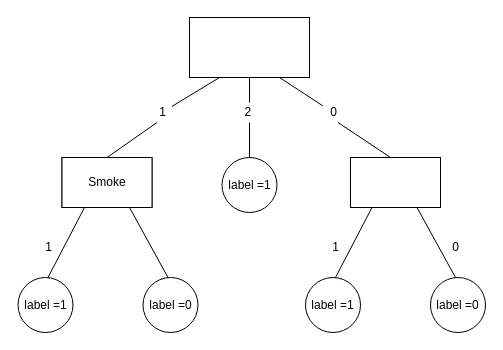
The diagram is 503 pixels wide and 350 high, and some of its shapes have lost their labels. The shapes that lost their labels are listed below. From the top down, each one's centre as x and y in pixels, then its label:
At [249,47]: "Cholesterol".
At [395,182]: "Pressure".
